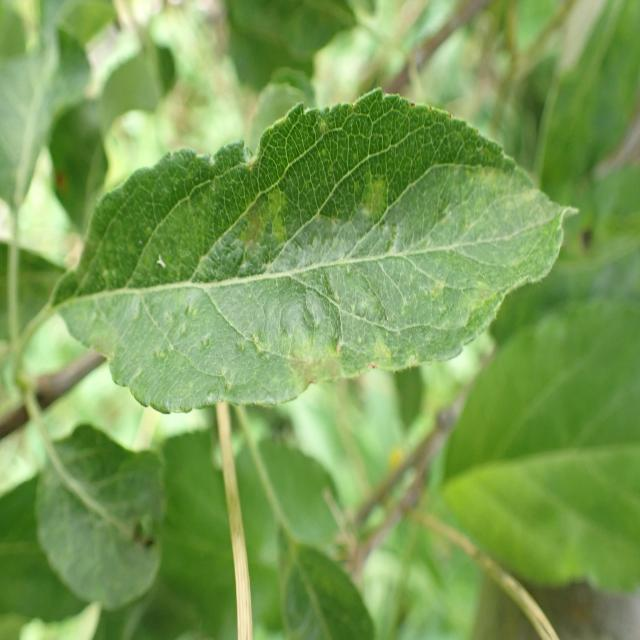scab: (66, 123, 558, 384)
